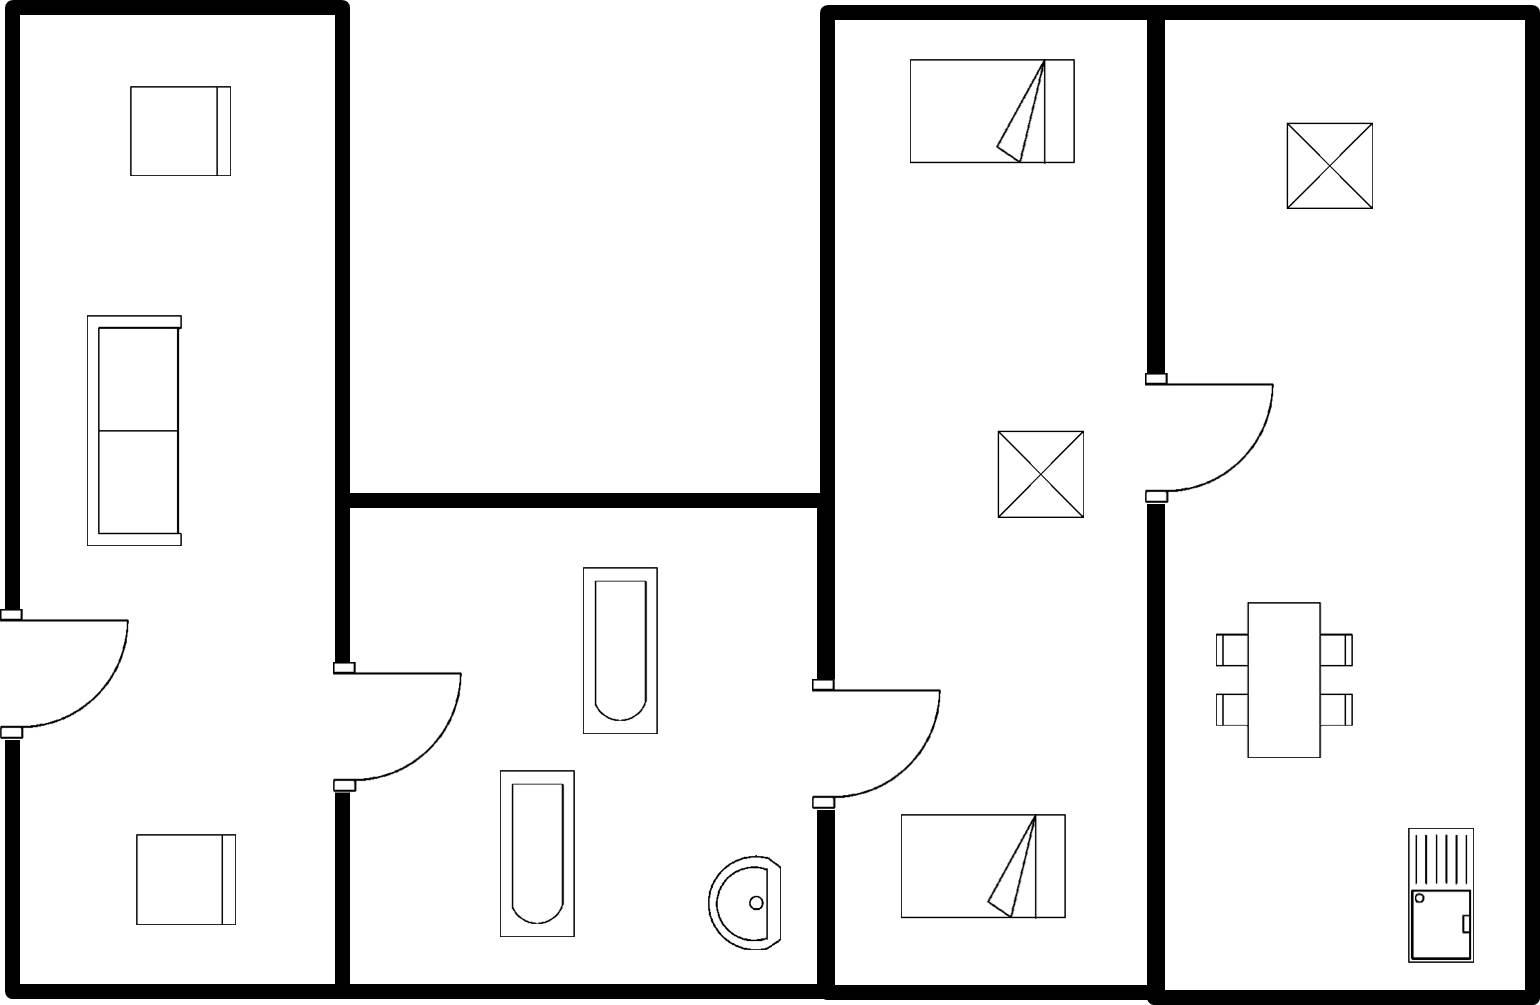bed: (902, 48, 1079, 172), (893, 808, 1071, 923)
dining_table: (1206, 596, 1358, 766)
sink: (1399, 819, 1479, 970)
sofa: (79, 309, 194, 554)
tub: (491, 760, 581, 948), (572, 560, 664, 742)
